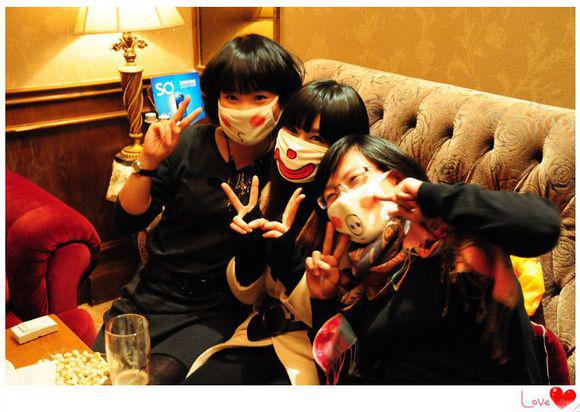OK: (328, 164, 400, 241), (217, 86, 277, 146), (278, 117, 334, 179)
